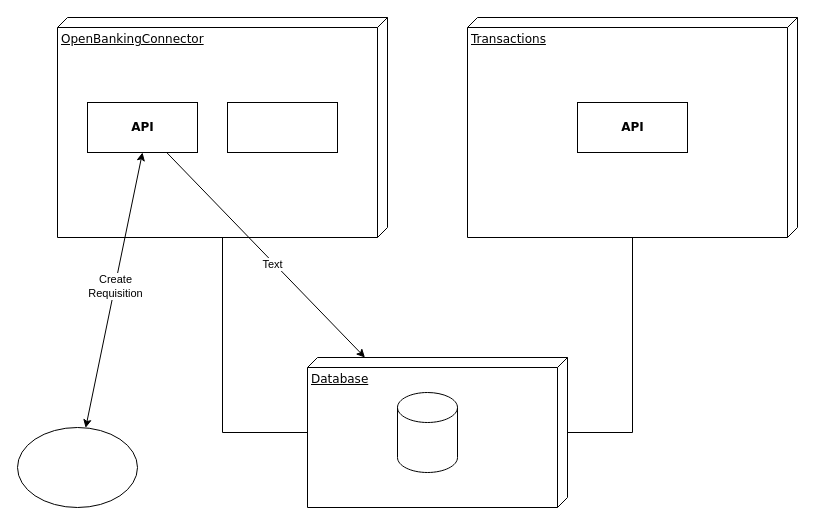
This 815x525 diagram has some shape labels left out. Here are the shapes that lost their labels. From the top down, the box of each, then its label:
(226, 102, 338, 152): Sync Job
(16, 426, 138, 508): GoCardless
